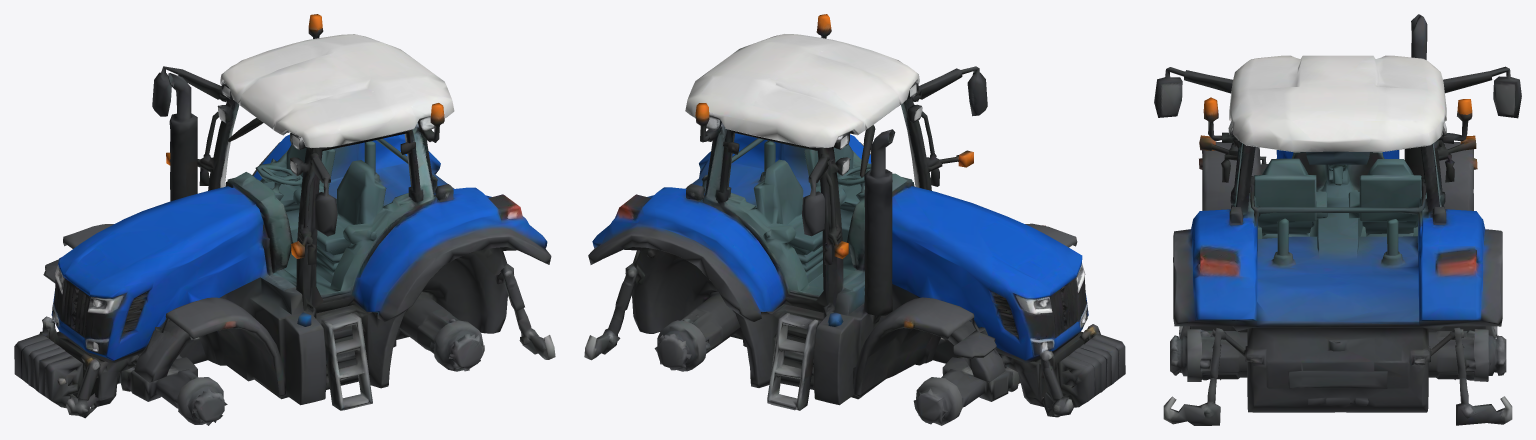
Rendered from buyuk-traktor.glb.
3 renders of one model, left to right at view 1: azimuth 30°, elevation 25°; view 2: azimuth 150°, elevation 25°; view 3: azimuth 270°, elevation 25°, orthographic. The views are drawn at different scales.
Parts seen in each view (by area): view 1: tripo_node_fe566d24-9128-4e89-acbe-15336a19adf0; view 2: tripo_node_fe566d24-9128-4e89-acbe-15336a19adf0; view 3: tripo_node_fe566d24-9128-4e89-acbe-15336a19adf0.
Part boxes in pixels (bbox=[...]): tripo_node_fe566d24-9128-4e89-acbe-15336a19adf0: bbox=[14, 14, 555, 425]; tripo_node_fe566d24-9128-4e89-acbe-15336a19adf0: bbox=[584, 14, 1125, 425]; tripo_node_fe566d24-9128-4e89-acbe-15336a19adf0: bbox=[1154, 14, 1521, 425].
Bounding box in the file's own units: 0.979 × 0.5619 × 0.6654.
1 material, 1 textured.
